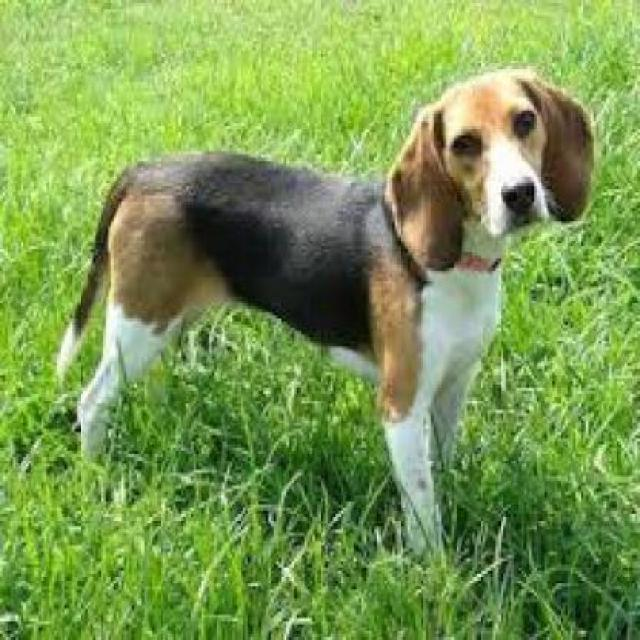Dog: (52, 68, 592, 566)
